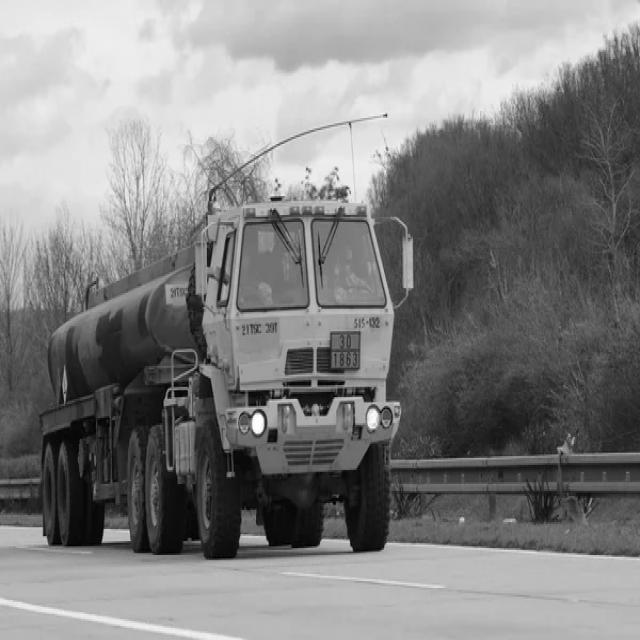Truck: (40, 196, 401, 558)
